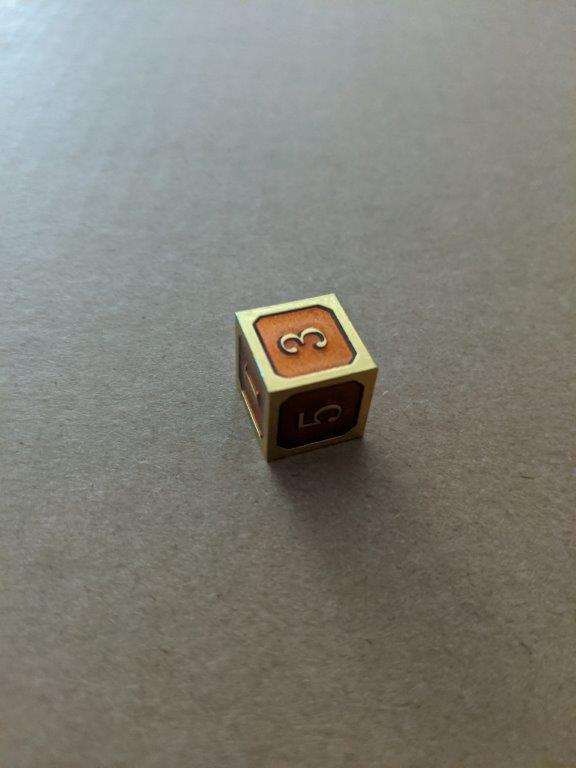d6-3: (233, 292, 380, 460)
